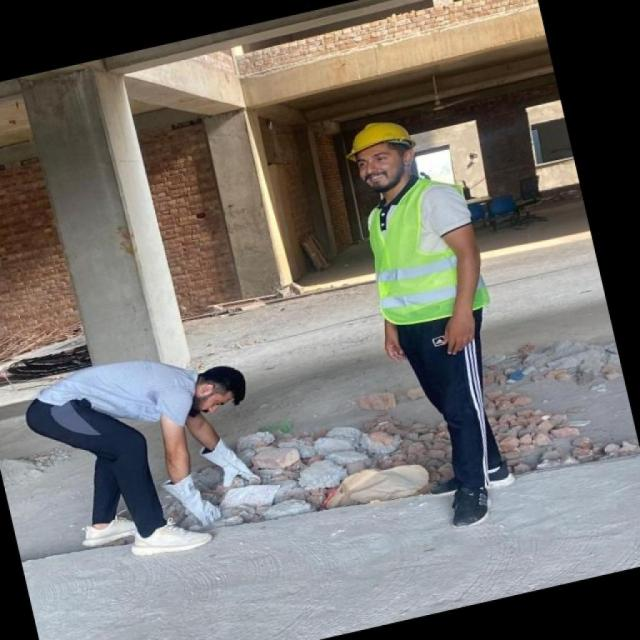Gloves-Detection: (164, 473, 216, 527), (199, 437, 258, 483)
